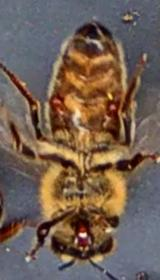varroa_mite: (98, 91, 128, 122), (39, 88, 70, 117)
